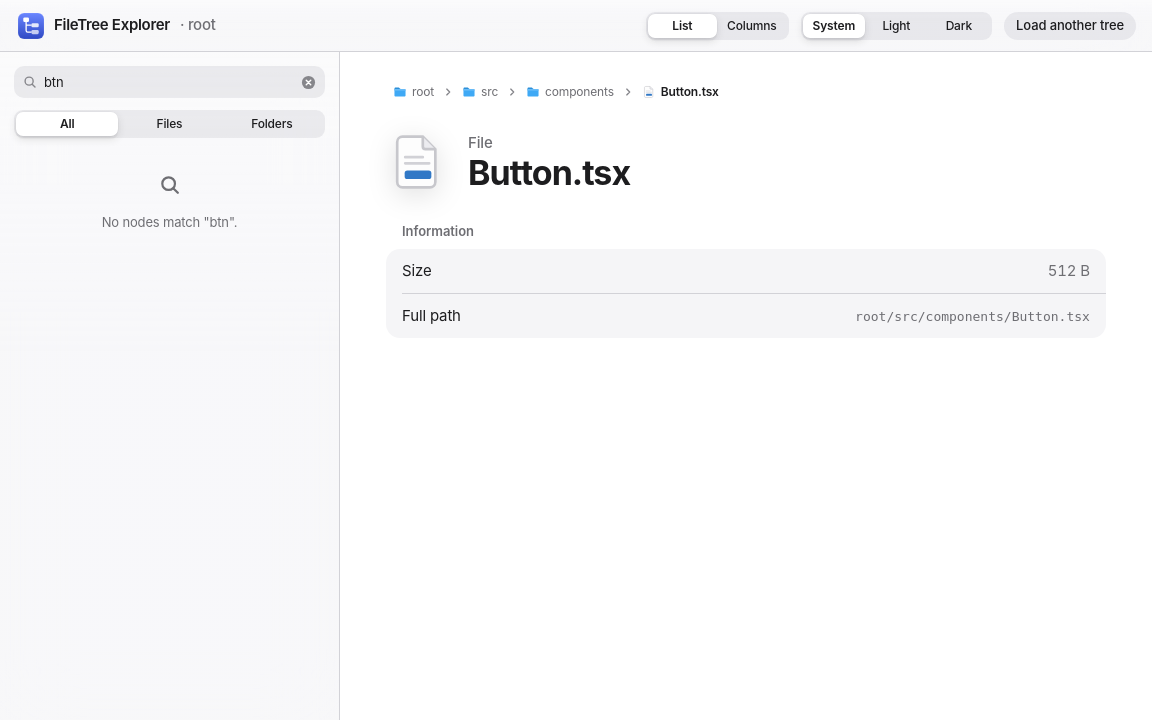
Test case: node details › shows a path bar with links to every ancestor of the node
Click the link "src". click: (480, 92)
box: [462,84,498,99]
(page scrolled)
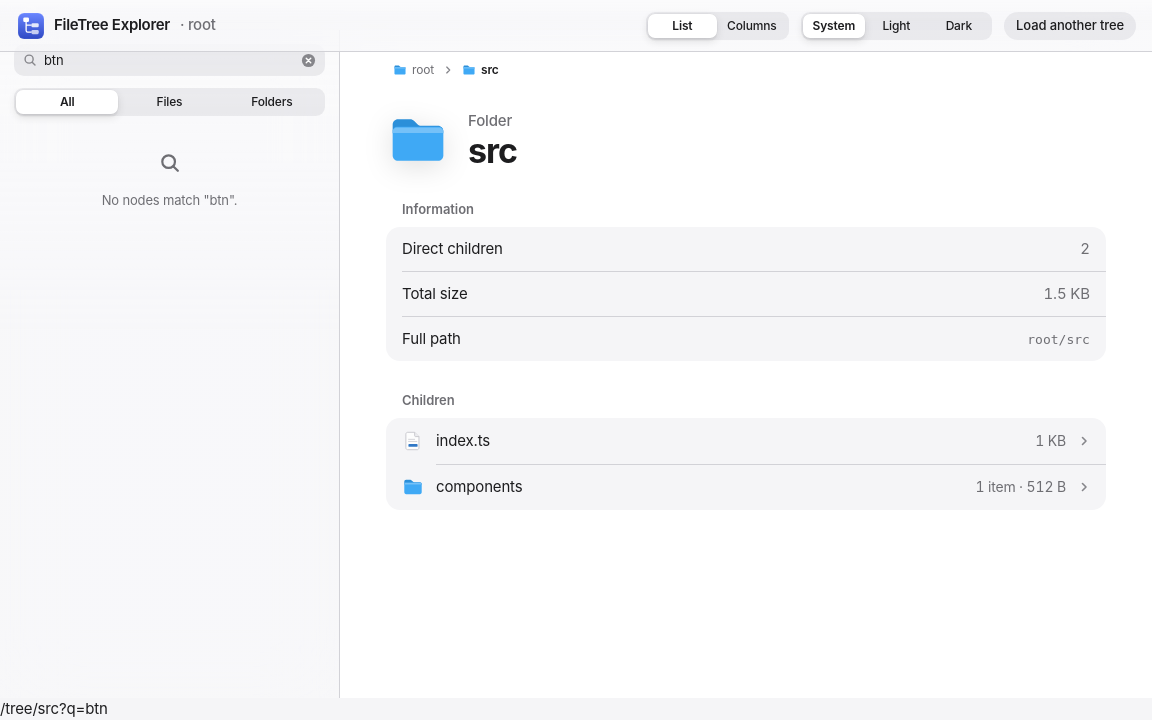
Now the text with test id "location" reads "/tree/src?q=btn", box [0,699,108,718]
